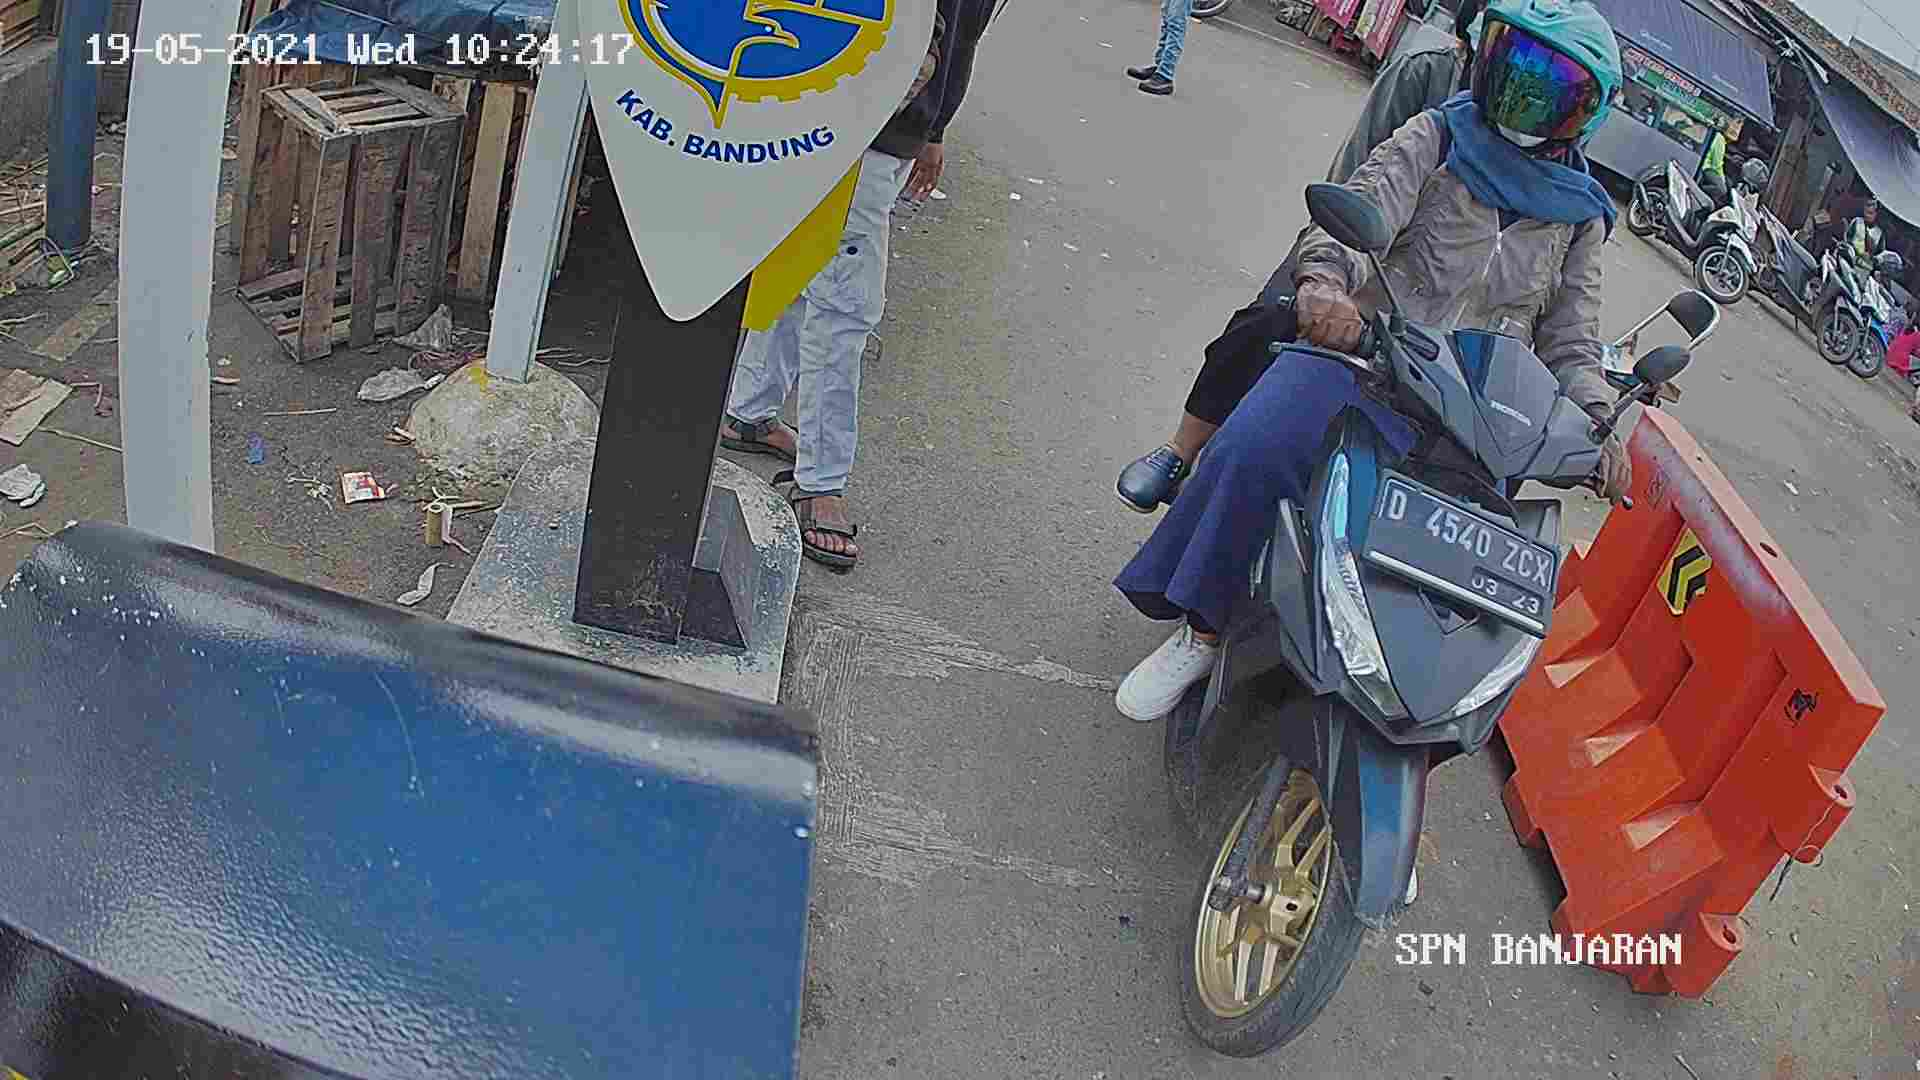motor: (1080, 204, 1584, 1056)
